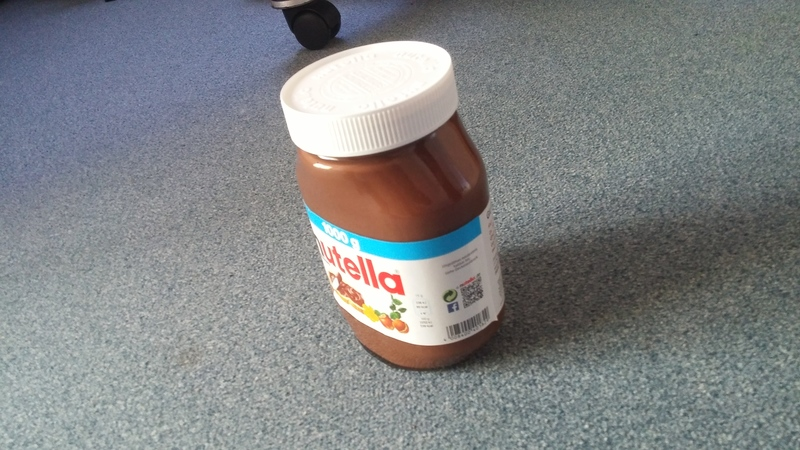nutella: (279, 40, 507, 372)
